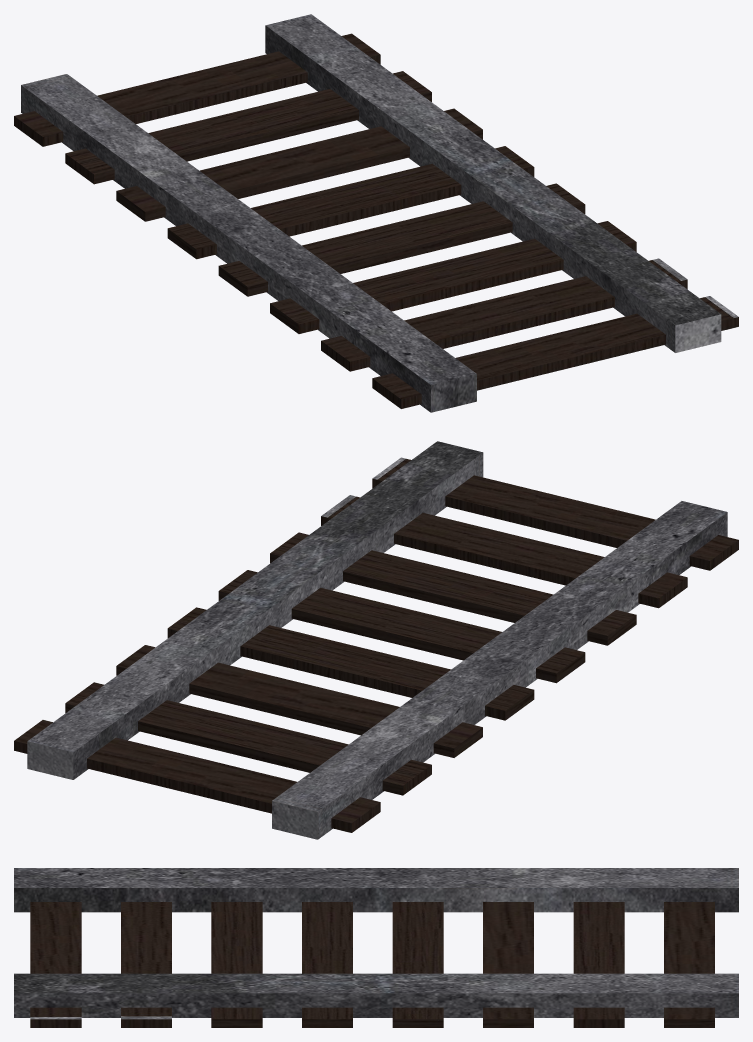
Rendered from Track.fbx.
The picture shows the model from 3 angles, top to bottom: view 1: azimuth 30°, elevation 25°; view 2: azimuth 150°, elevation 25°; view 3: azimuth 270°, elevation 25°; orthographic projection. The views are drawn at different scales.
Visible parts, largest first — view 1: RailwayTrack; view 2: RailwayTrack; view 3: RailwayTrack.
Boxes of the visible parts, x1,y1,x2,y2 form: RailwayTrack: (14,14,738,412); RailwayTrack: (14,441,738,839); RailwayTrack: (14,868,738,1027).
Size of the model in its own units: 4014 by 8437 by 315.
Materials: 1 (1 with a texture image).
